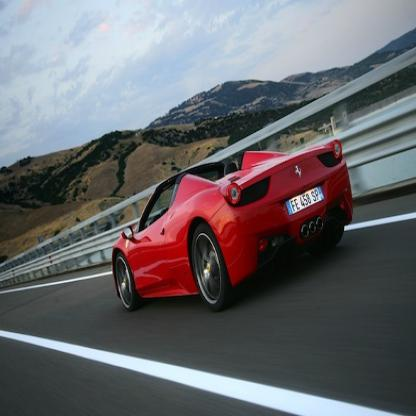car: (112, 140, 355, 312)
